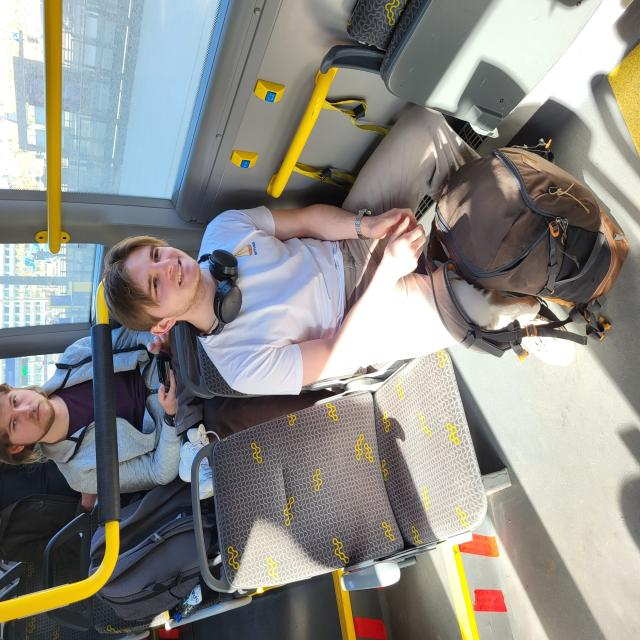asiento-libre: (34, 254, 219, 640)
